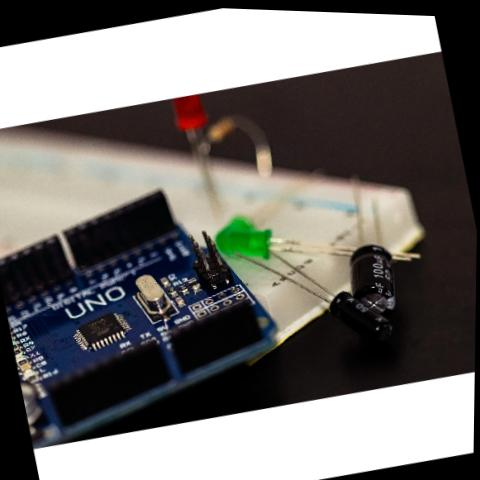Arduino-Uno: (0, 161, 296, 455)
